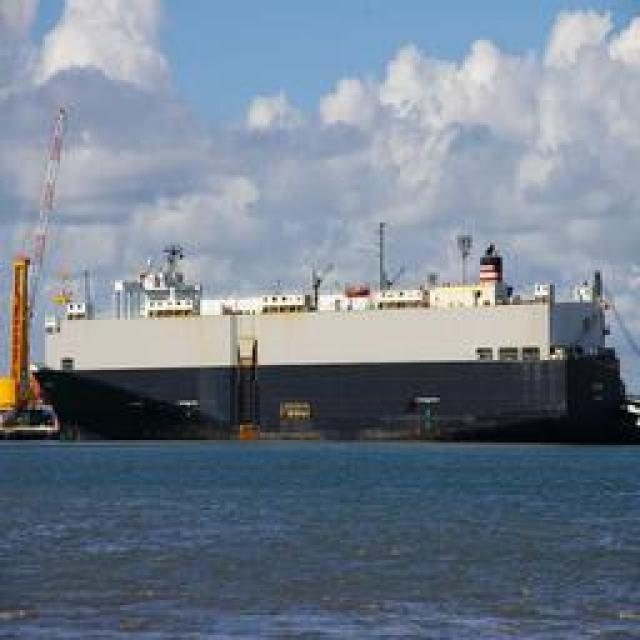ship2: (27, 222, 620, 442)
